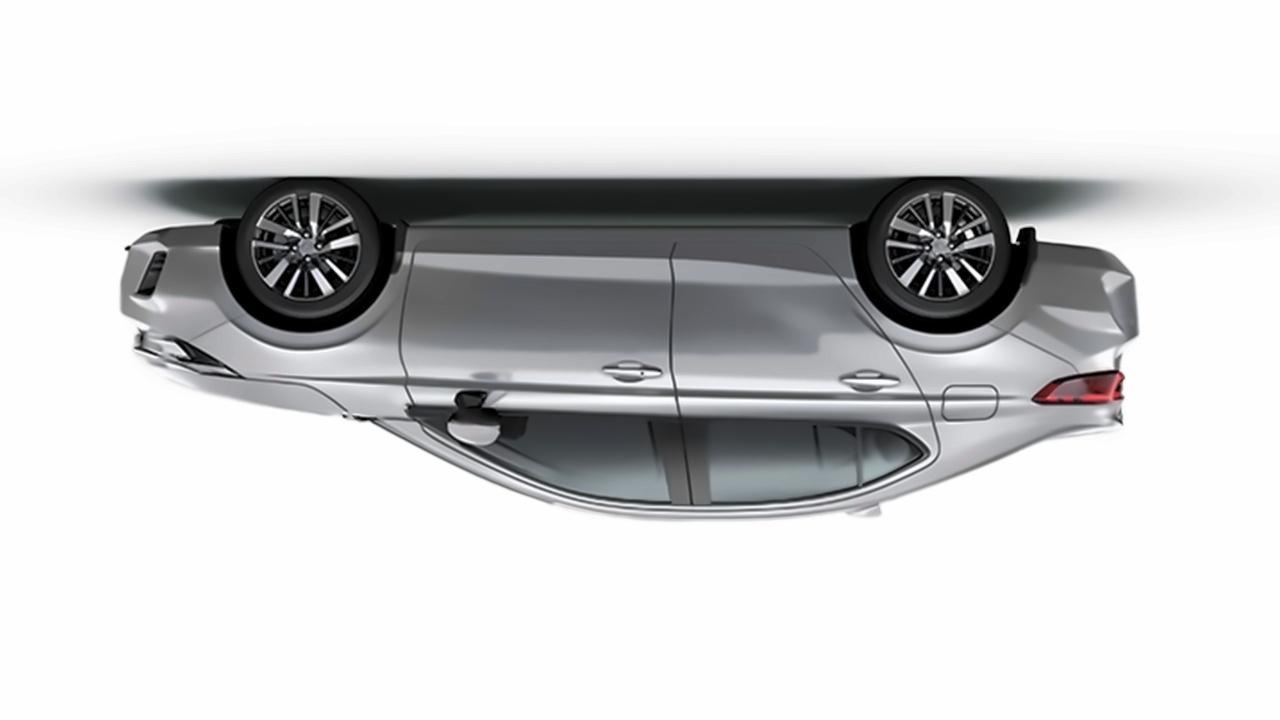Car hood: (135, 355, 358, 420)
Driver-s door - -F-R-: (400, 234, 675, 512)
Fender - -F-R-: (190, 223, 413, 426)
Fender - -R-R-: (833, 240, 1081, 405)
Front bumper: (118, 213, 257, 340)
Headlight - -R-: (128, 323, 244, 382)
Passenger-s door - -R-R-: (677, 234, 943, 513)
Rear bumper: (988, 223, 1143, 379)
Rear light - -R-: (1023, 360, 1135, 409)
Side bumper - -R-: (394, 220, 859, 255)
Side mirror - -R-: (439, 380, 508, 450)
